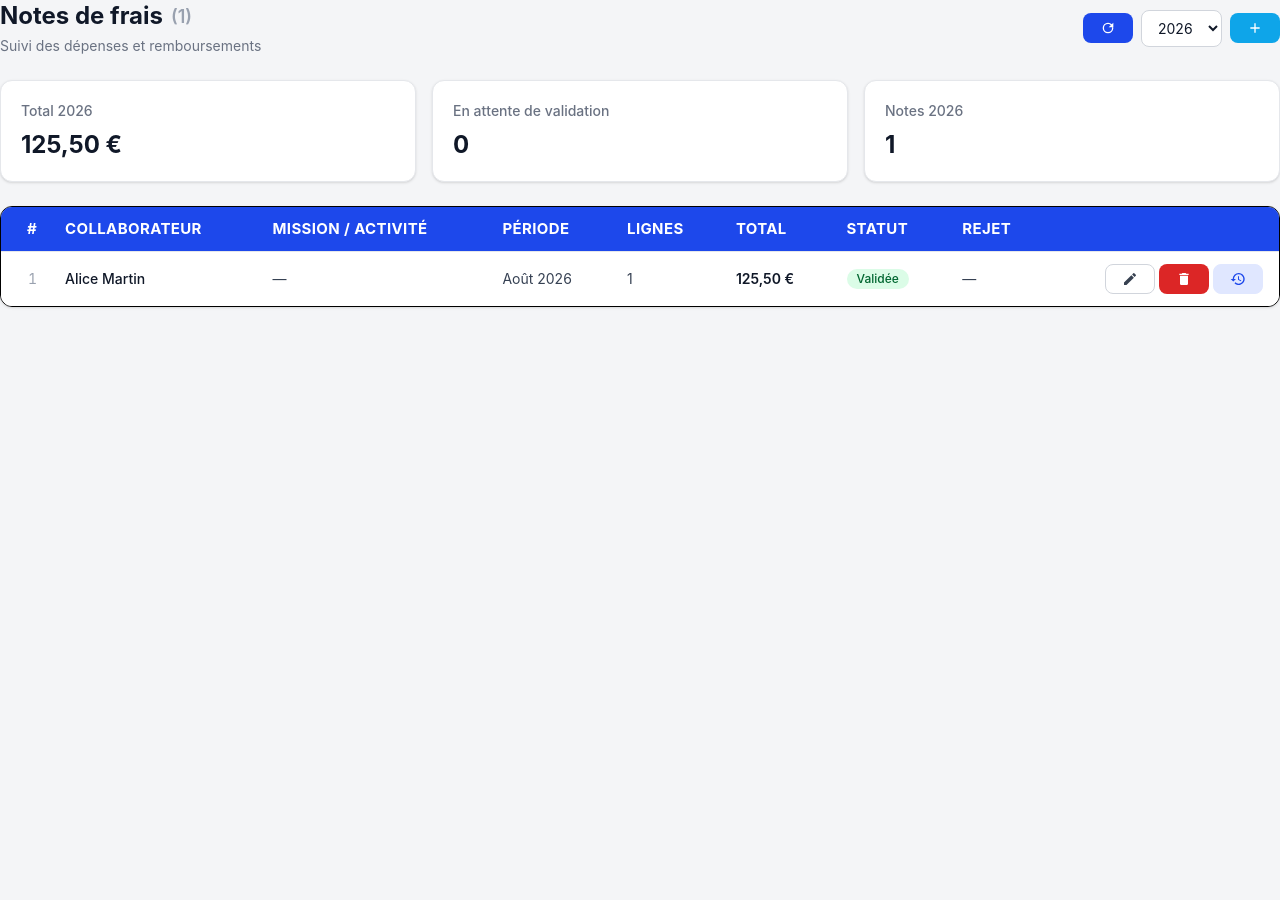
NoteFraisList › affiche l’historique des modifications
The image size is (1280, 900).
Click the button named "Historique": [1238, 279] box [1213,264,1263,294]
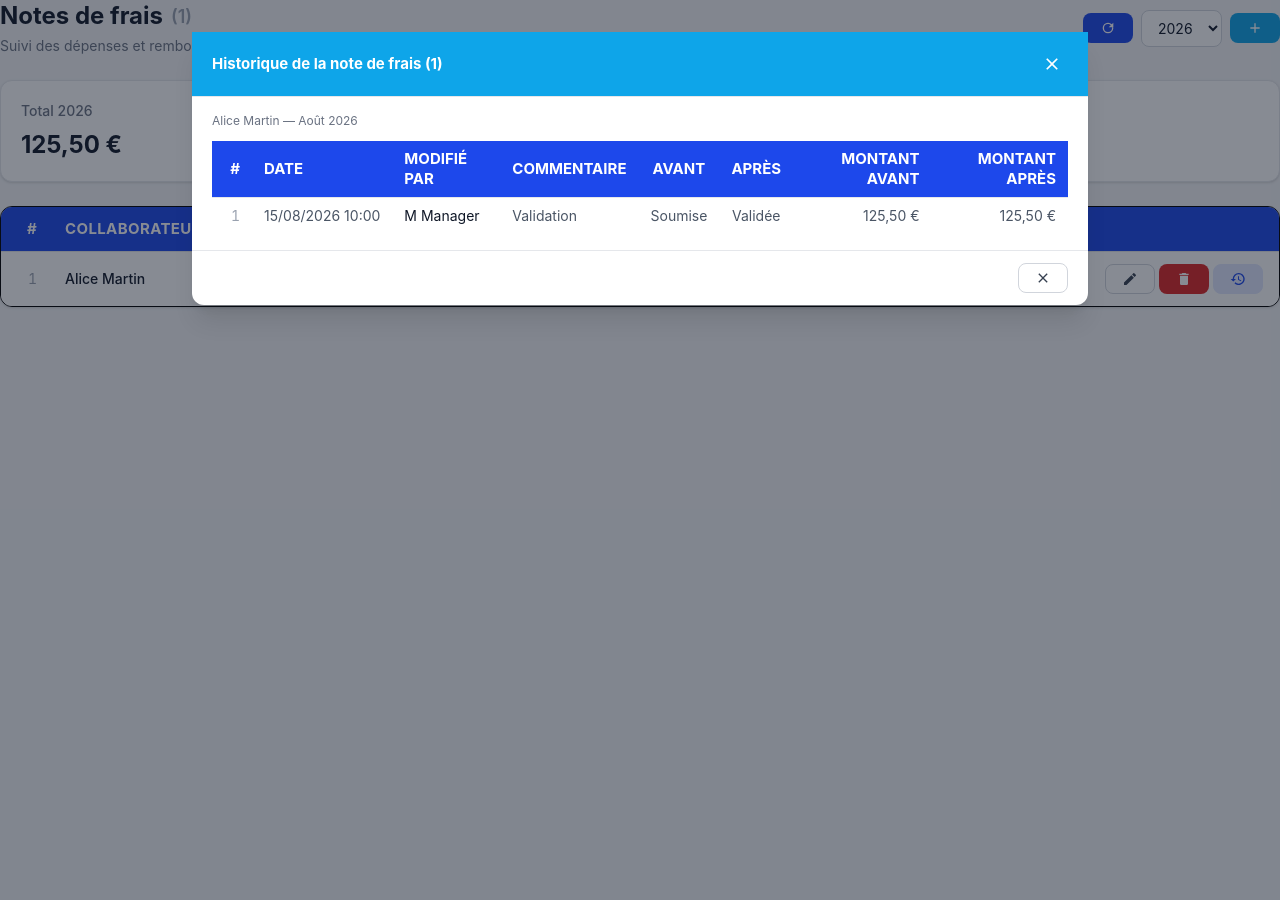
Now the text "Validation" is shown, box [500,198,638,234]
Now the text "M Manager" is shown, box [392,198,500,234]
